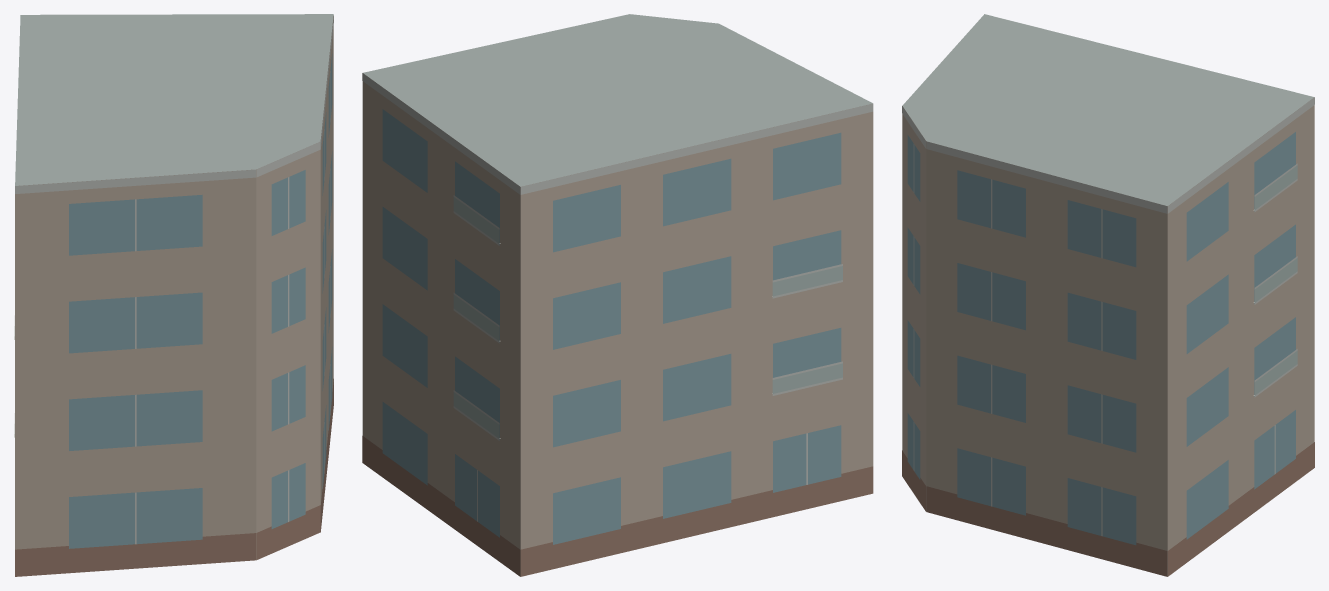
Rendered from survey-upis-32786397.glb.
The picture shows the model from 3 angles, left to right: view 1: azimuth 30°, elevation 25°; view 2: azimuth 150°, elevation 25°; view 3: azimuth 270°, elevation 25°; orthographic projection. The views are drawn at different scales.
Parts seen in each view (by area): view 1: survey-upis-32786397.tmp; view 2: survey-upis-32786397.tmp; view 3: survey-upis-32786397.tmp.
Part boxes in pixels (left/top/right/bottom): survey-upis-32786397.tmp: left=14, top=14, right=333, bottom=576; survey-upis-32786397.tmp: left=362, top=14, right=873, bottom=576; survey-upis-32786397.tmp: left=902, top=14, right=1314, bottom=576.
Bounding box in the file's own units: 13.02 × 11.7 × 11.81.
